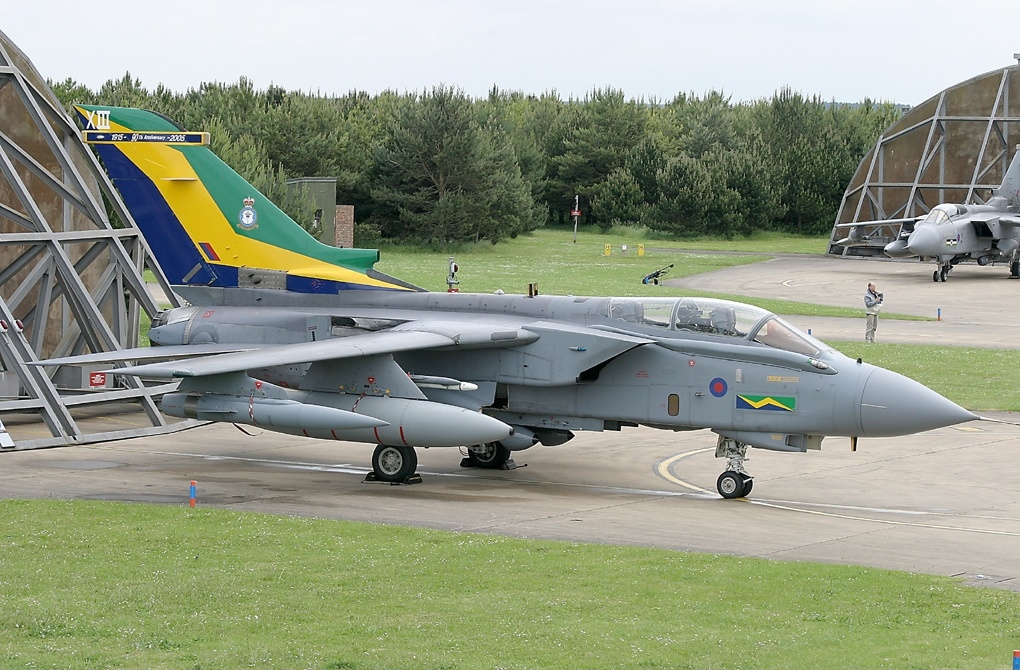Tornado: (19, 103, 1020, 499), (834, 143, 1020, 283)
